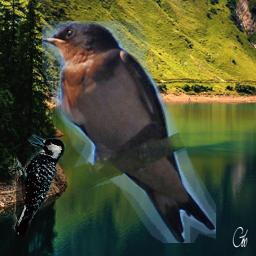Swallow: (42, 21, 216, 243)
Woodpecker: (8, 134, 67, 235)
